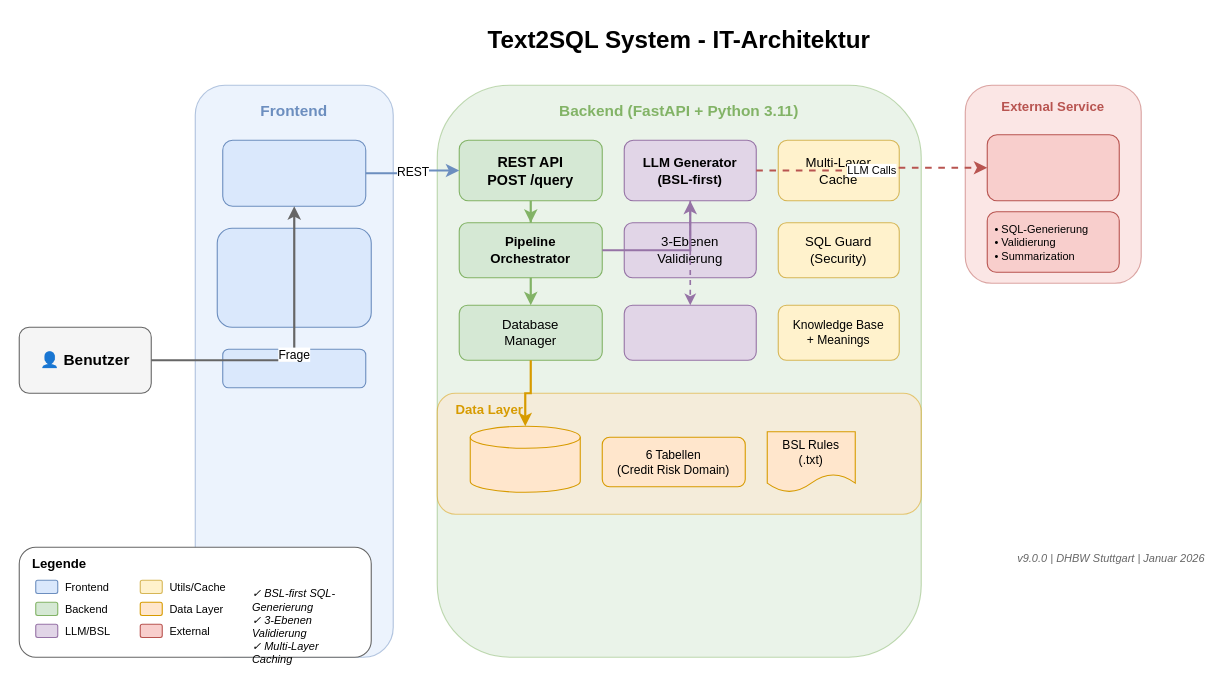
The diagram is 1227 pixels wide and 685 high, and some of its shapes have lost their labels. The shapes that lost their labels are listed below. From the top down, each one's box as (x1, y1, x2, y2) in pixels, then its label:
(222, 139, 366, 206): React 19 Chat UI
(986, 134, 1119, 201): OpenAI API GPT-5.2
(216, 227, 371, 327): • Natürlichsprachliche Eingabe • SQL-Anzeige • Ergebnis-Tabelle • Pagination
(623, 304, 756, 360): Business Semantics Layer
(222, 348, 366, 388): Vite 7
(469, 425, 580, 492): SQLite credit.sqlite
